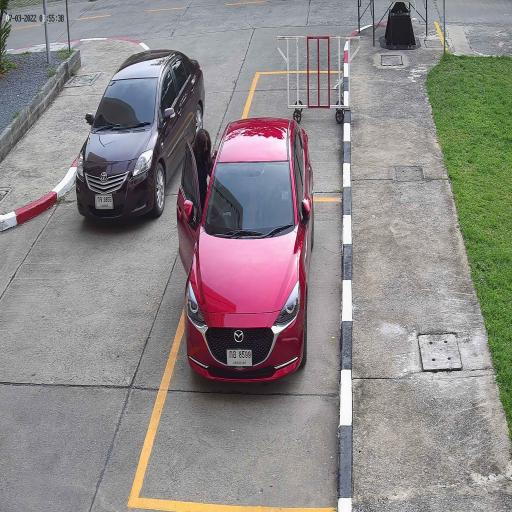car: (185, 119, 312, 382), (76, 51, 204, 217)
